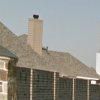Chimney: (21, 7, 48, 70)
